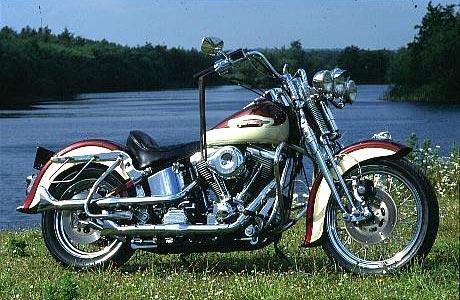motorcycle: (7, 52, 452, 284)
